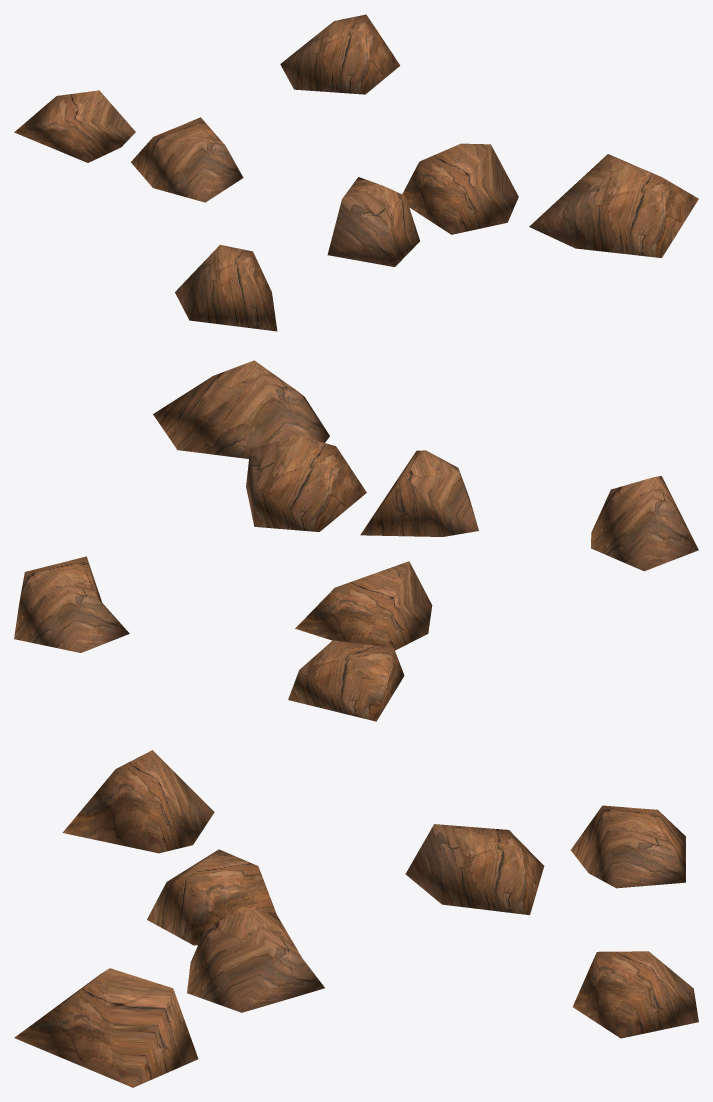
Rendered from rock_tatt_jundland_pebble_a1_l2.fbx.
3 views of the same model, one above another, from view 1: azimuth 30°, elevation 25°; view 2: azimuth 150°, elevation 25°; view 3: azimuth 270°, elevation 25° (orthographic). The views are drawn at different scales.
Parts seen in each view (by area): view 1: mesh_node; view 2: mesh_node; view 3: mesh_node.
Boxes of the visible parts, x1,y1,x2,y2 form: mesh_node: (14, 14, 698, 331); mesh_node: (14, 360, 698, 721); mesh_node: (14, 750, 698, 1087).
Bounding box in the file's own units: 1.21 × 0.1439 × 1.22.
